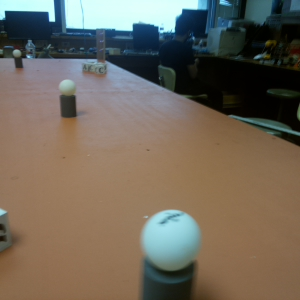blockA: (82, 62, 90, 72)
blockC: (97, 64, 105, 74)
corner: (95, 29, 107, 61)
obstacle: (137, 207, 200, 300), (56, 78, 80, 117), (13, 49, 24, 70)
